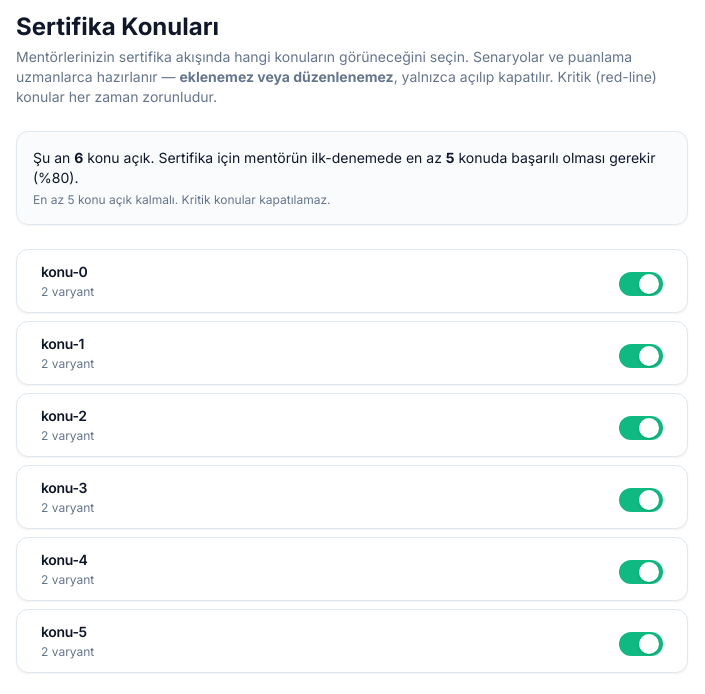
Test case: AdminCertificationPage — konu güncelleme hatası › backend mesajını gösterir
This screenshot has width=705, height=694.
Expected: the text "Şu an" is shown, [33,149,74,166]
Click the switch named "konu-1 konusunu kapat" at (641, 356), box [619,344,663,368]
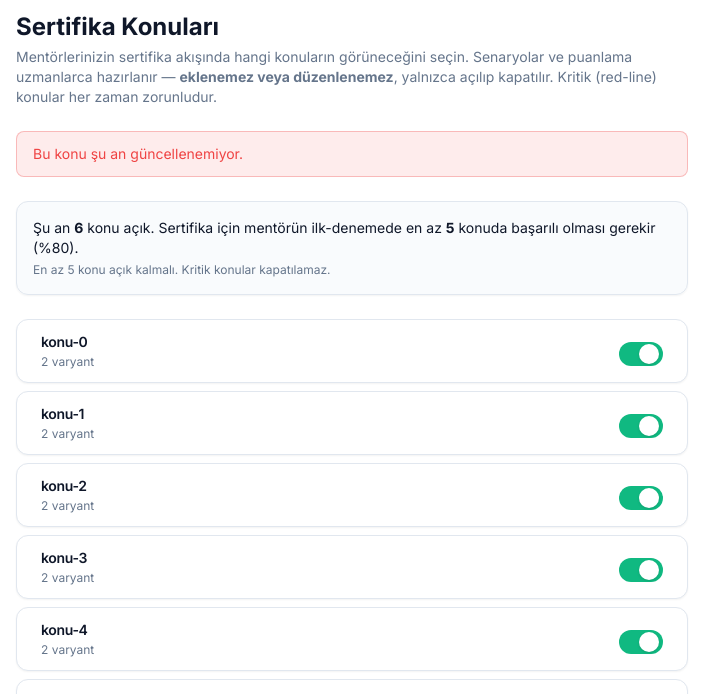
Expected: the text "Bu konu şu an güncellenemiyor." is shown, [16,131,688,177]
